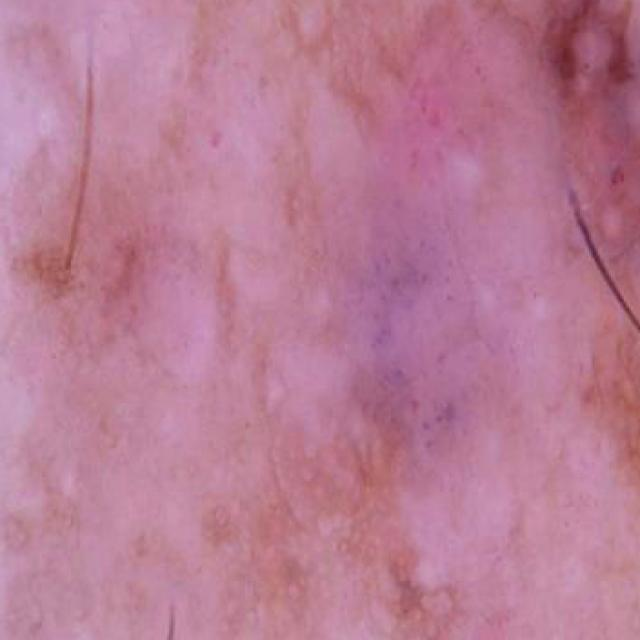BKL: (25, 0, 640, 640)
